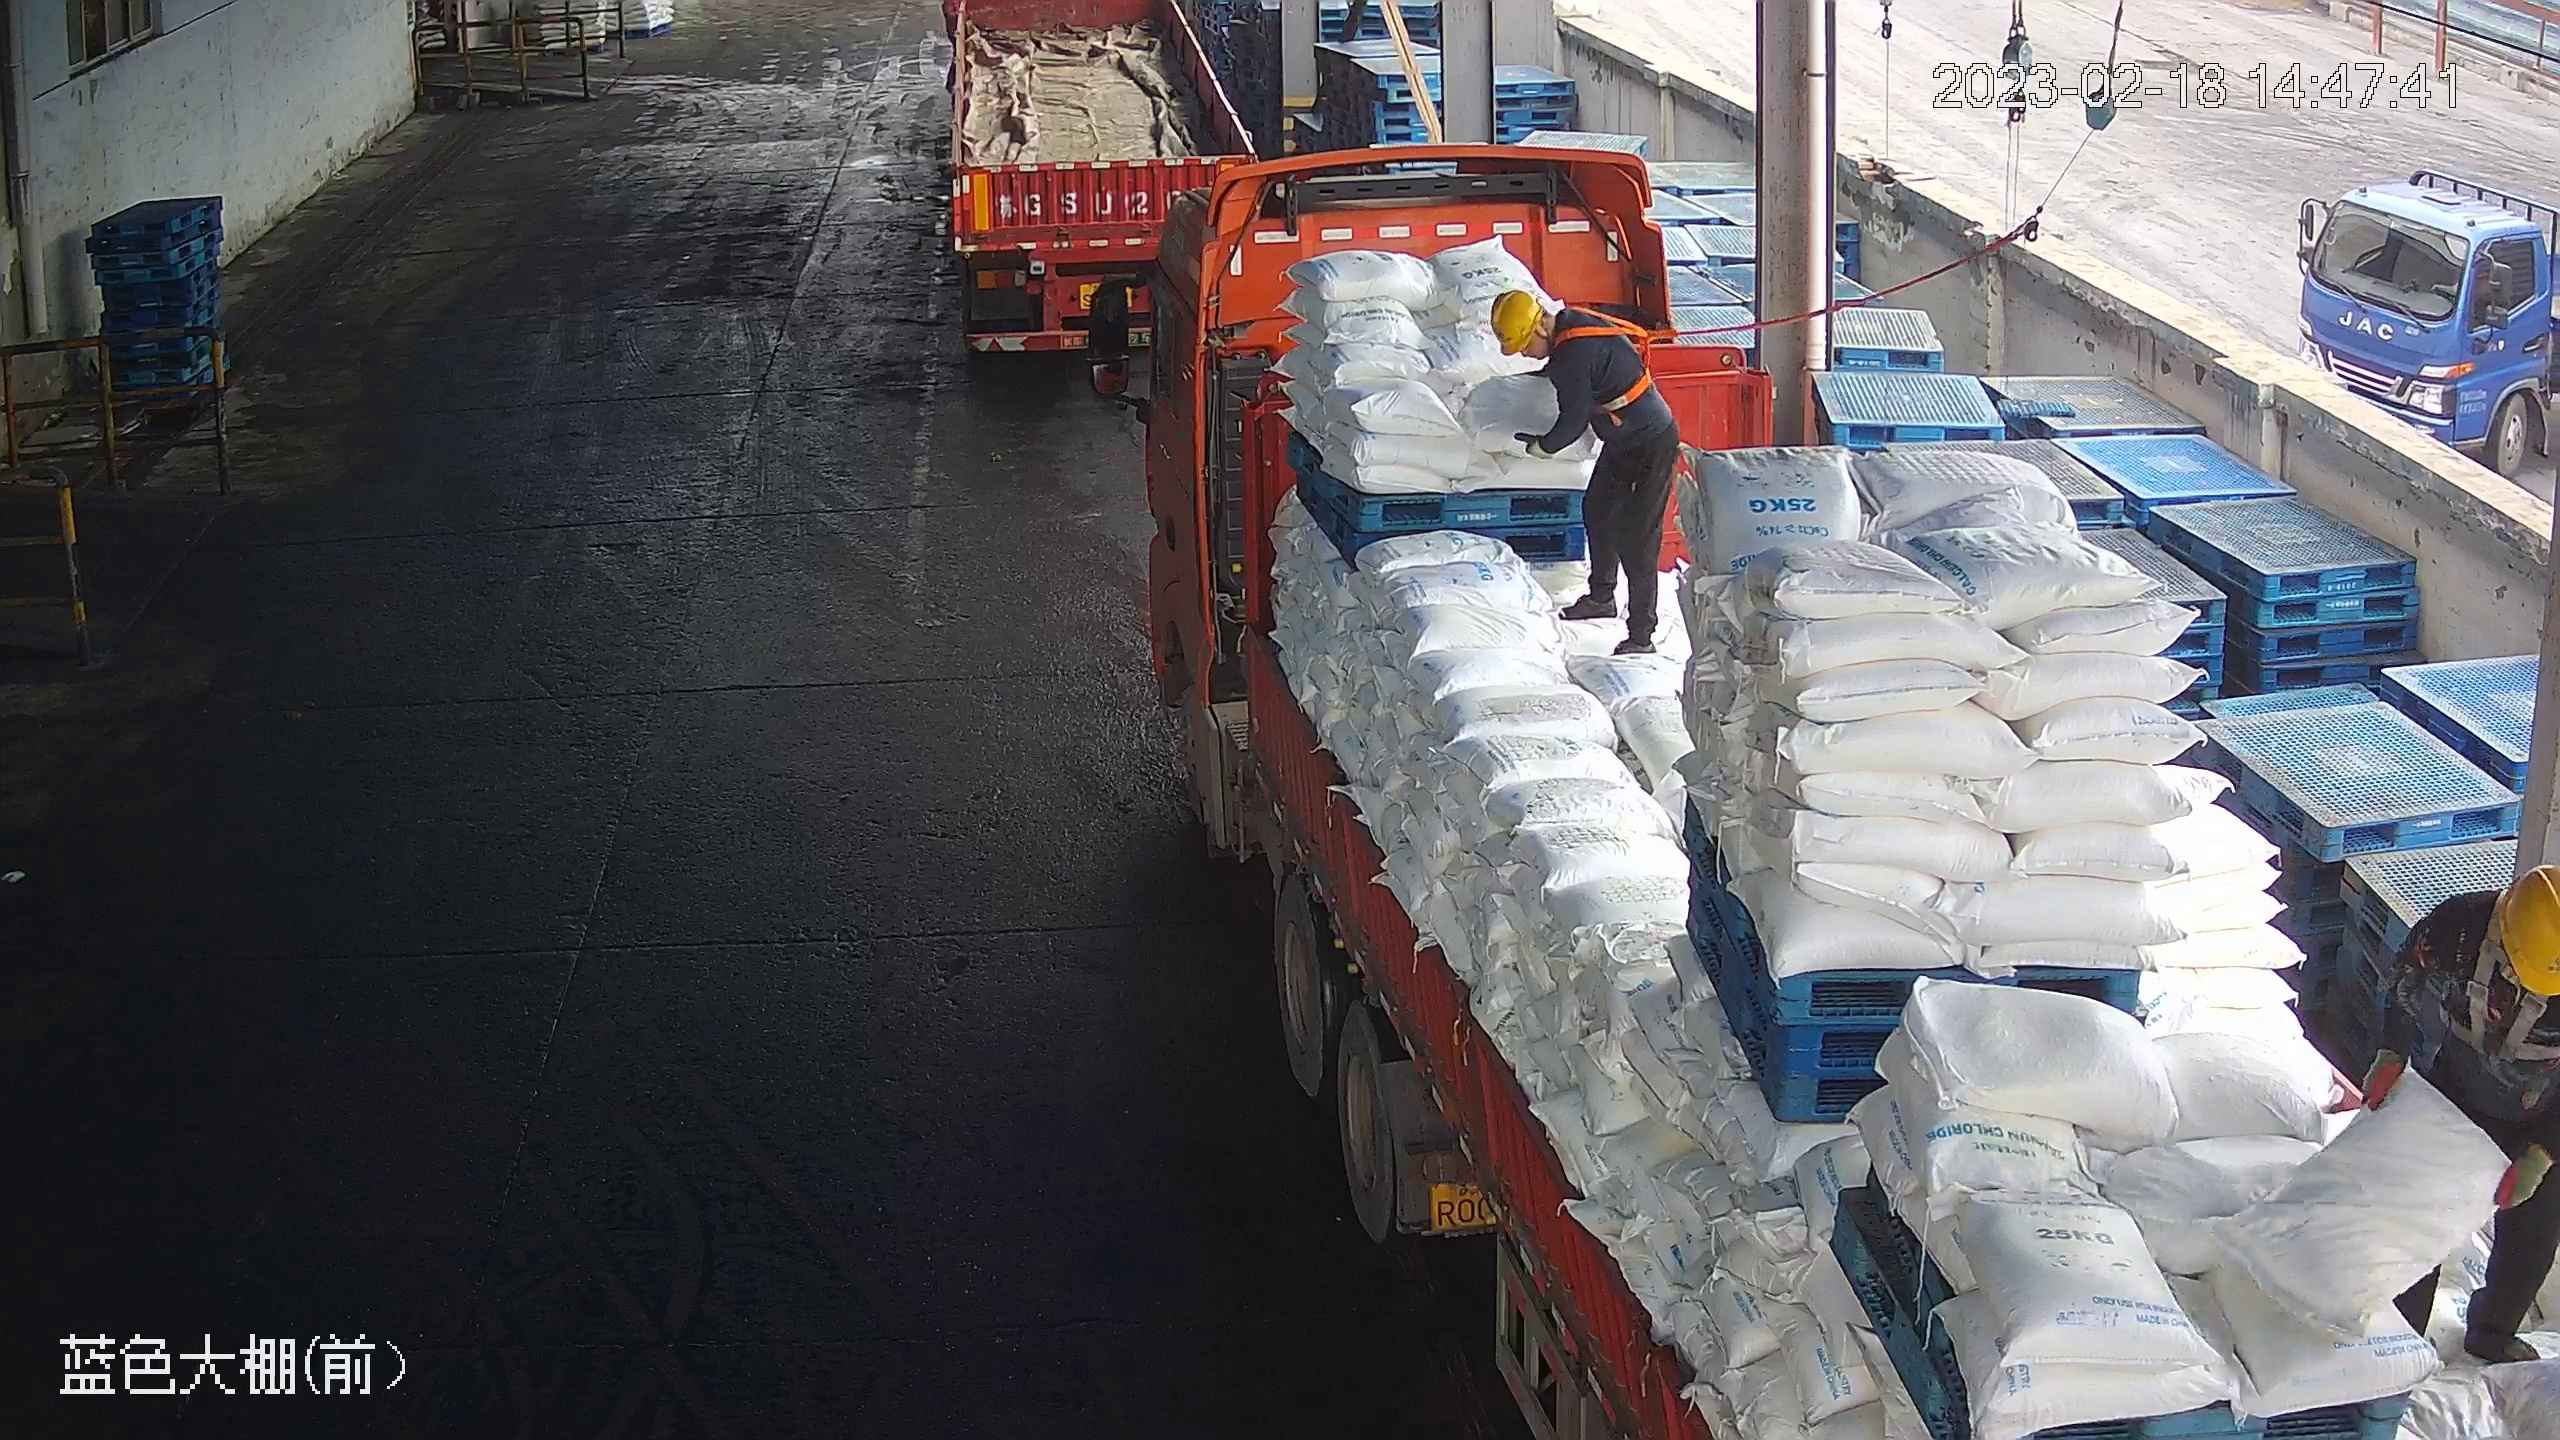belt: (2456, 931, 2559, 1068), (1558, 303, 1663, 411)
head: (2412, 857, 2560, 1054), (1490, 285, 1625, 395)
helmet: (2496, 861, 2560, 997), (1489, 287, 1546, 356)
people: (2357, 857, 2560, 1373), (1490, 283, 1684, 656)
truck: (1086, 146, 2560, 1440), (945, 3, 1260, 365)
